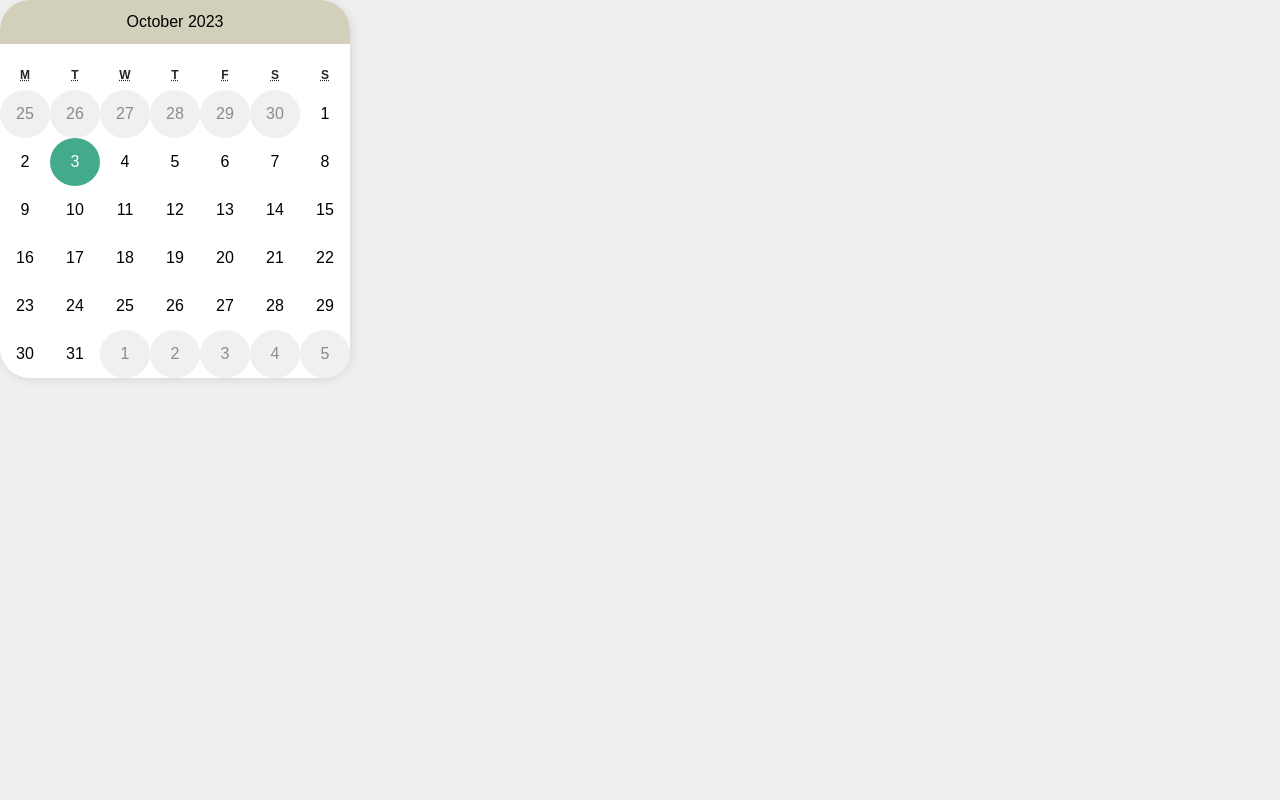
MonthlyCalendar › opens JournalEntryPopup when a day with a journal entry is clicked
Click the 1st button "3": (75, 162) top-left (50, 138), bottom-right (100, 186)
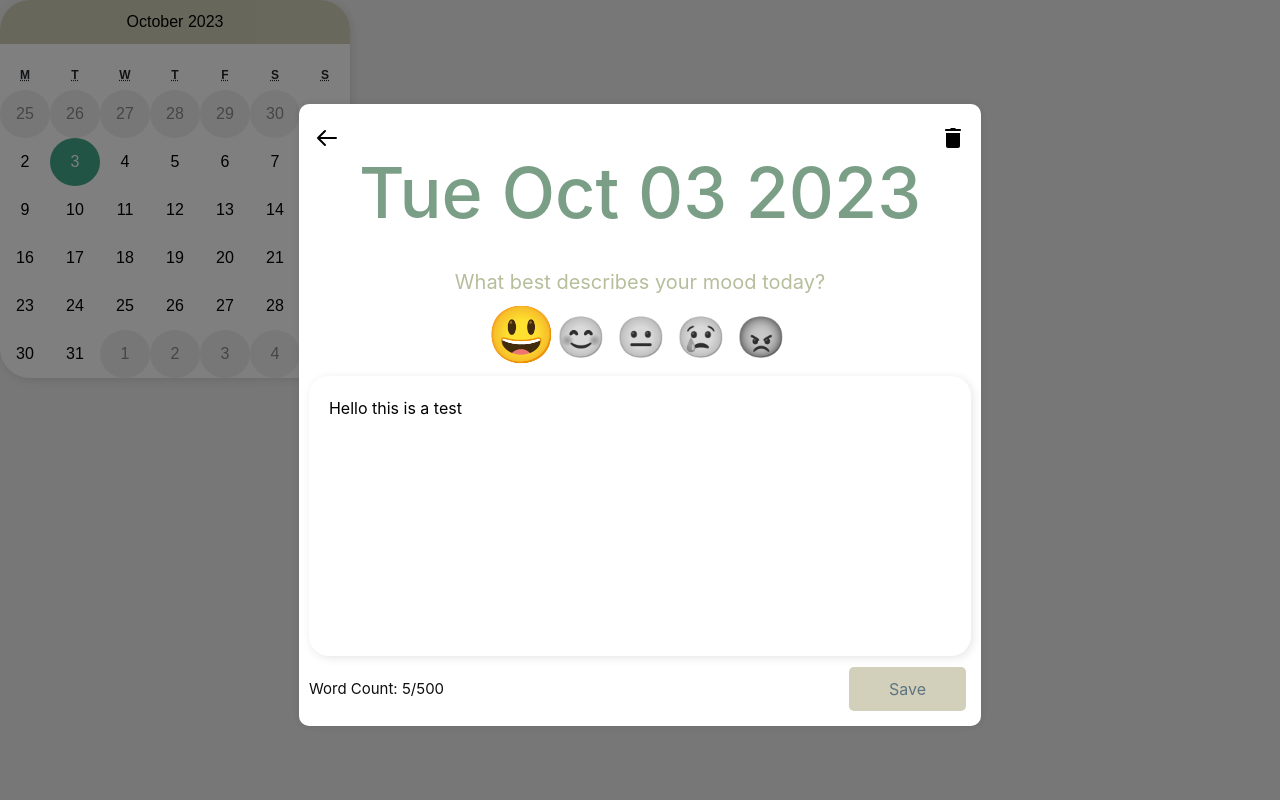
Check: the heading "Tue Oct 03 2023" is shown, box top-left (359, 151), bottom-right (921, 235)
